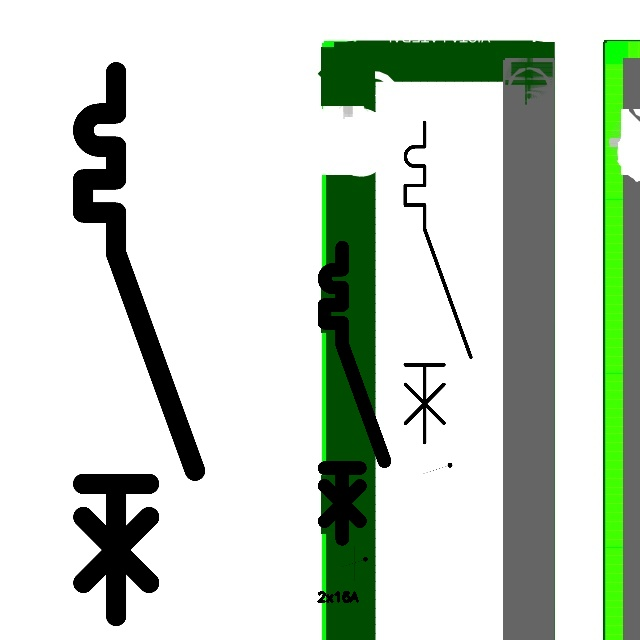interruptor_termomagnetico: (69, 58, 209, 630), (397, 114, 479, 451), (317, 240, 392, 546)
